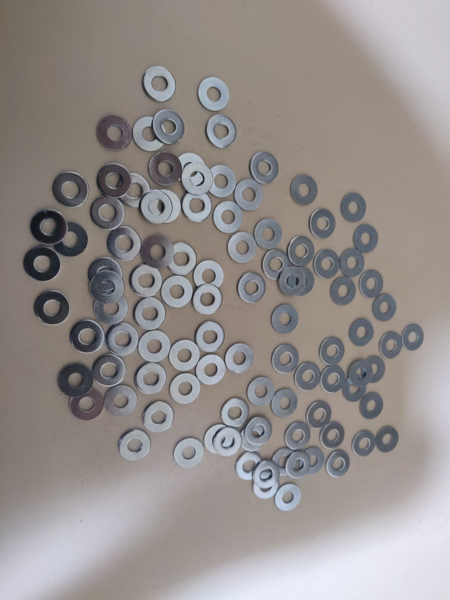circle: (23, 246, 61, 283), (30, 209, 68, 246), (53, 171, 89, 209), (96, 116, 133, 152), (86, 257, 123, 293), (34, 290, 71, 326), (116, 172, 151, 209), (140, 234, 176, 269), (92, 292, 129, 326), (90, 195, 125, 230), (70, 320, 105, 355), (107, 227, 142, 262), (142, 67, 176, 103), (89, 271, 125, 305), (139, 189, 173, 224), (148, 153, 183, 187), (132, 117, 166, 152), (69, 388, 104, 422), (53, 223, 88, 257), (96, 164, 132, 197), (57, 365, 93, 398), (106, 323, 140, 357), (197, 76, 230, 111), (103, 386, 138, 419), (147, 190, 181, 223), (133, 297, 166, 331), (92, 354, 126, 387), (205, 115, 237, 149), (153, 111, 185, 145), (118, 430, 152, 462), (193, 260, 225, 294), (166, 242, 198, 276), (142, 402, 175, 434), (195, 321, 227, 354), (130, 265, 162, 298), (137, 331, 170, 363), (135, 363, 167, 396), (206, 164, 237, 198), (181, 191, 213, 223), (181, 163, 212, 196), (193, 284, 224, 317), (162, 276, 193, 309), (173, 437, 204, 469), (168, 340, 200, 371), (237, 272, 267, 305), (253, 219, 284, 250), (261, 249, 292, 280), (170, 374, 201, 405), (213, 202, 243, 234), (227, 233, 257, 265), (270, 304, 300, 336), (251, 151, 280, 184), (176, 153, 205, 186), (196, 355, 226, 386), (235, 179, 264, 211), (221, 397, 249, 430), (204, 425, 234, 455), (225, 343, 254, 374), (309, 208, 337, 240), (291, 175, 319, 207), (287, 266, 315, 298), (270, 389, 299, 419), (278, 267, 306, 298), (247, 377, 275, 408), (235, 453, 264, 482), (271, 345, 299, 375), (293, 362, 321, 391), (270, 447, 298, 476), (214, 428, 242, 457), (253, 471, 280, 501), (331, 275, 357, 306), (284, 422, 311, 451), (253, 460, 280, 489), (245, 417, 272, 446), (341, 193, 367, 223), (288, 236, 314, 266), (319, 338, 346, 366), (339, 248, 365, 277), (314, 251, 340, 280), (275, 483, 301, 512), (240, 424, 266, 453), (300, 446, 325, 476), (320, 422, 346, 450), (320, 366, 346, 394), (354, 224, 379, 253), (286, 451, 311, 480), (307, 402, 332, 430), (350, 319, 375, 347), (359, 270, 384, 298), (376, 424, 400, 453), (348, 360, 374, 386), (327, 451, 352, 477), (360, 393, 384, 420), (343, 376, 367, 402), (401, 324, 424, 351), (380, 332, 403, 359), (353, 430, 376, 457), (374, 294, 396, 322), (364, 356, 386, 383)
